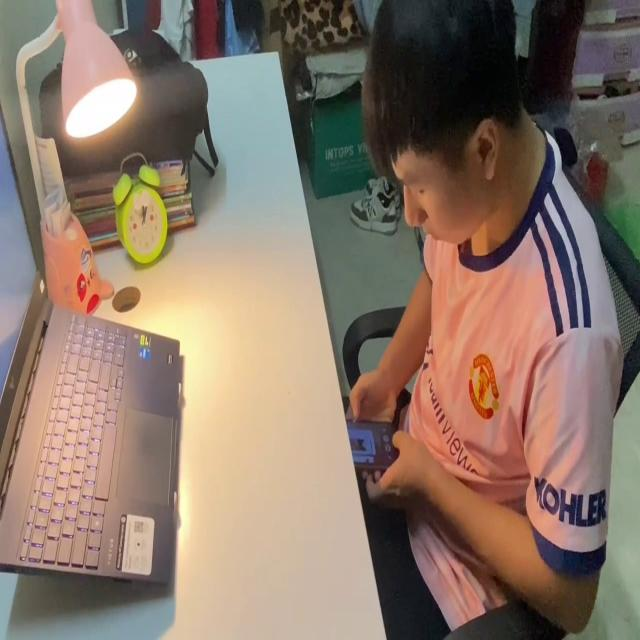laptop: (0, 98, 184, 596)
phone: (340, 410, 402, 470)
student: (348, 2, 622, 640)
